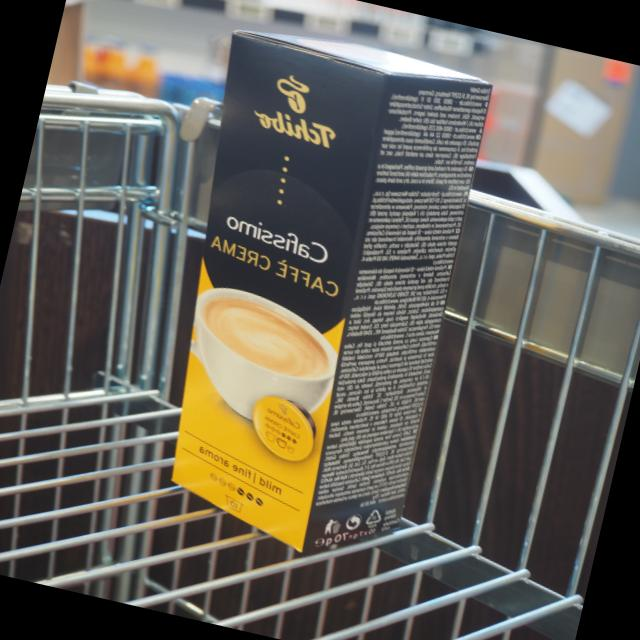Simo CCMild bigpack: (163, 26, 402, 563)
